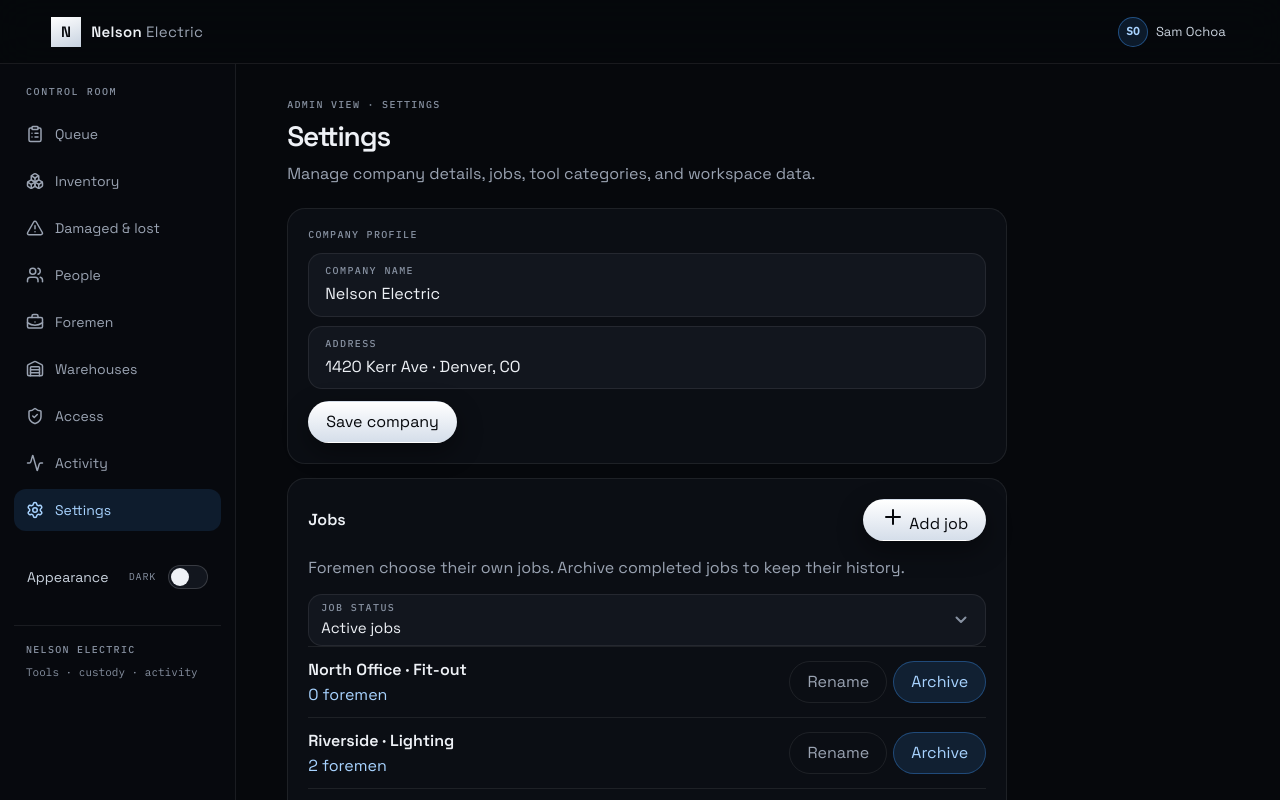
settings surface › preserves failed company drafts and exposes mutation errors
Expected: the heading "Settings" is shown, top-left (287, 118), bottom-right (390, 154)
Replace the text in the field labelled "Company name" with "Keep this draft" at (647, 294), box top-left (325, 284), bottom-right (969, 304)
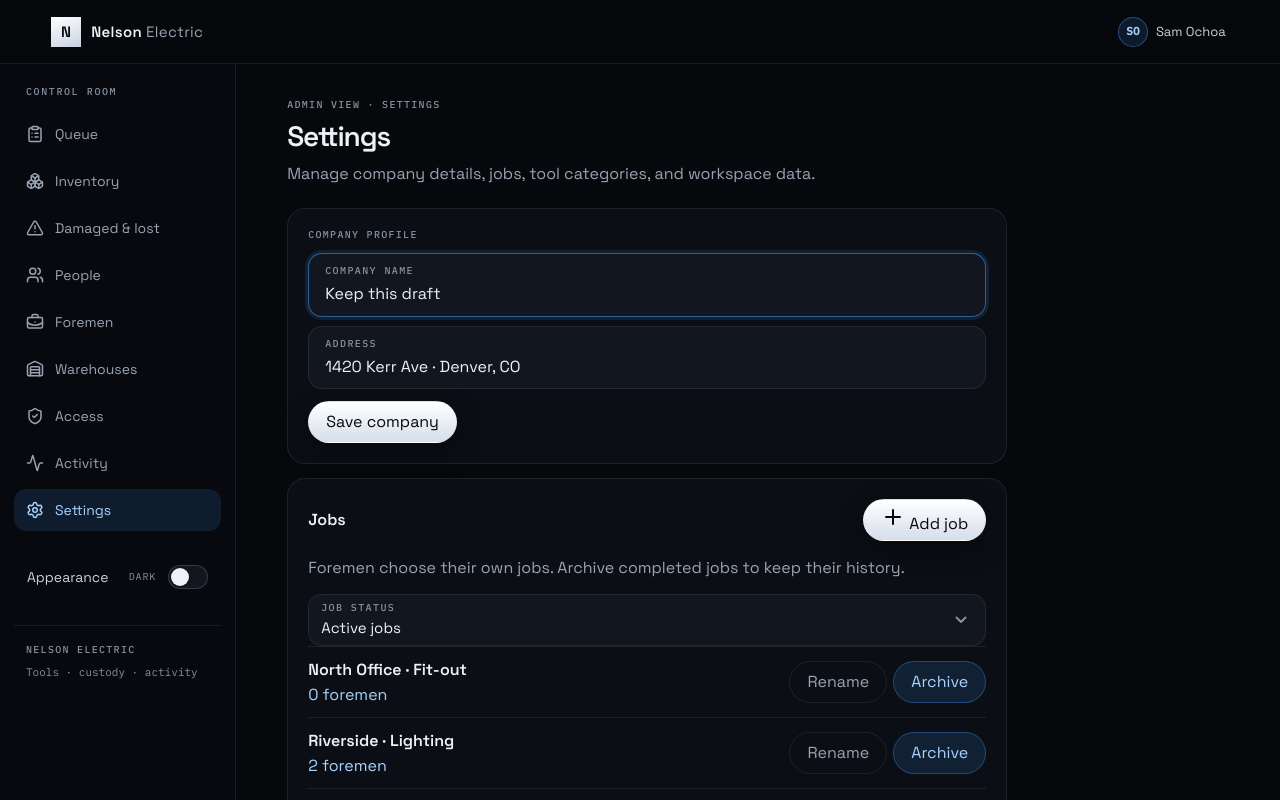
Click the button "Save company".
click(383, 422)  # box top-left (308, 401), bottom-right (457, 443)
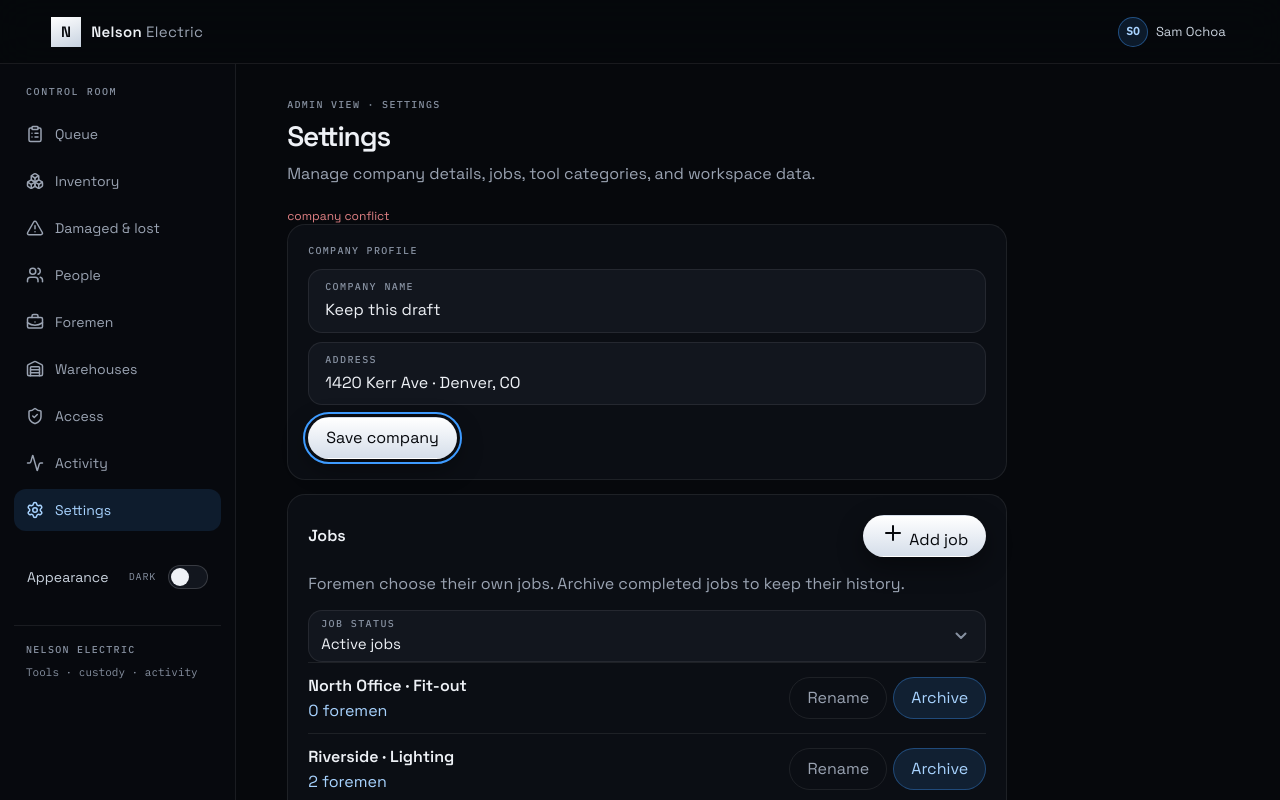
Now the message reads "company conflict", box top-left (287, 208), bottom-right (390, 224)
